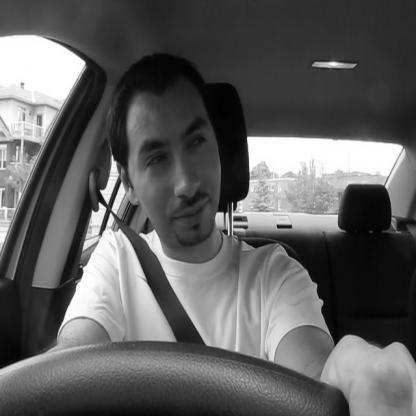seatbelt: (90, 42, 254, 354)
